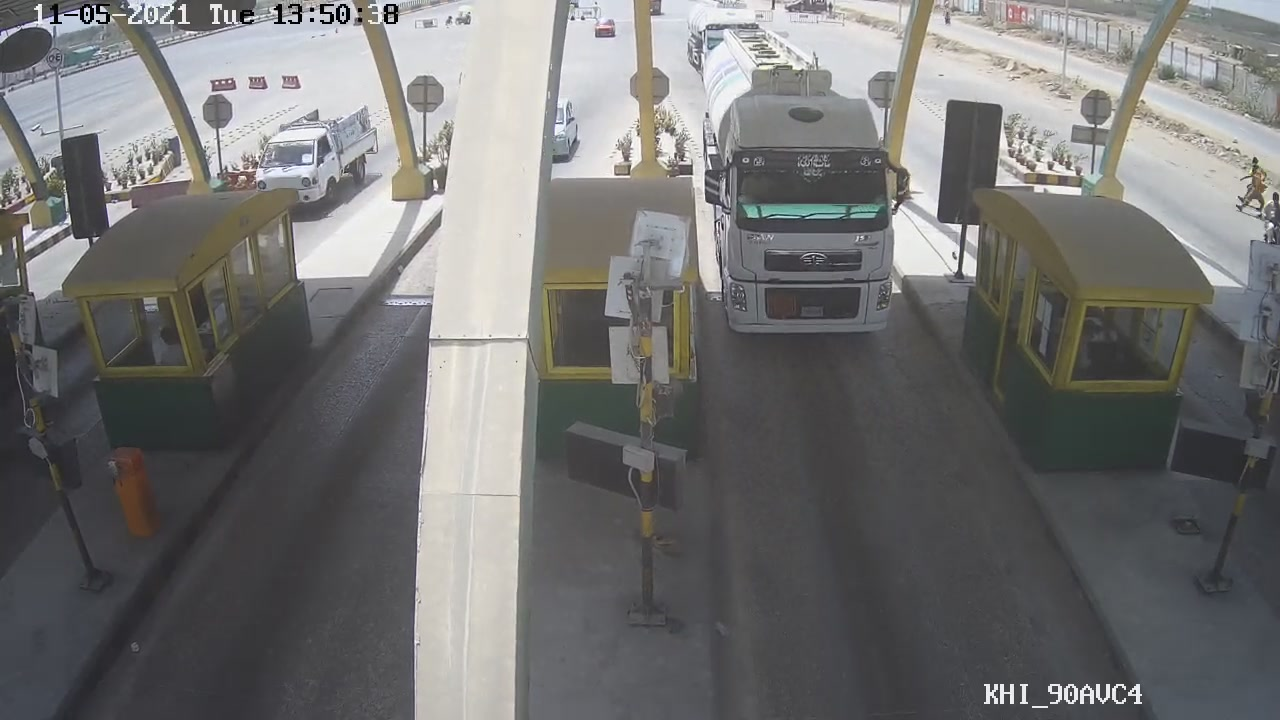F6: (698, 42, 913, 337)
